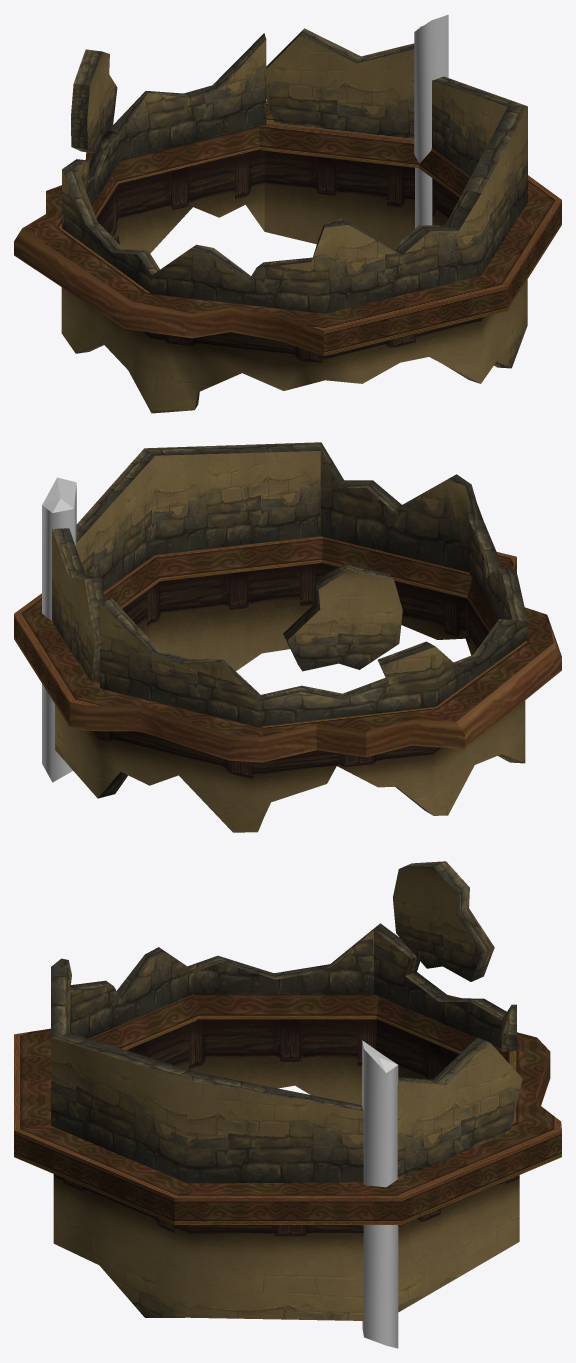
Rendered from environment_Building_tower_003_c.FBX.
The picture shows the model from 3 angles, top to bottom: view 1: azimuth 30°, elevation 25°; view 2: azimuth 150°, elevation 25°; view 3: azimuth 270°, elevation 25°; orthographic projection. The views are drawn at different scales.
Parts seen in each view (by area): view 1: environment_Building_tower_003_c4, environment_Building_tower_003_c3, environment_Building_tower_003_c6, environment_Building_tower_003_c1, environment_Building_tower_003_c5, environment_Building_tower_003_c2; view 2: environment_Building_tower_003_c4, environment_Building_tower_003_c3, environment_Building_tower_003_c6, environment_Building_tower_003_c2, environment_Building_tower_003_c1, environment_Building_tower_003_c5; view 3: environment_Building_tower_003_c3, environment_Building_tower_003_c4, environment_Building_tower_003_c6, environment_Building_tower_003_c1, environment_Building_tower_003_c5, environment_Building_tower_003_c2.
Boxes of the visible parts, bbox=[...] form: environment_Building_tower_003_c4: bbox=[62, 33, 527, 313]; environment_Building_tower_003_c3: bbox=[61, 149, 527, 413]; environment_Building_tower_003_c6: bbox=[14, 101, 561, 355]; environment_Building_tower_003_c1: bbox=[266, 28, 414, 138]; environment_Building_tower_003_c5: bbox=[414, 14, 448, 228]; environment_Building_tower_003_c2: bbox=[71, 49, 117, 153]; environment_Building_tower_003_c4: bbox=[76, 442, 527, 726]; environment_Building_tower_003_c3: bbox=[55, 563, 525, 832]; environment_Building_tower_003_c6: bbox=[14, 536, 561, 762]; environment_Building_tower_003_c2: bbox=[283, 563, 402, 671]; environment_Building_tower_003_c1: bbox=[52, 528, 104, 682]; environment_Building_tower_003_c5: bbox=[42, 477, 76, 782]; environment_Building_tower_003_c3: bbox=[53, 1019, 519, 1320]; environment_Building_tower_003_c4: bbox=[51, 923, 516, 1183]; environment_Building_tower_003_c6: bbox=[14, 973, 561, 1224]; environment_Building_tower_003_c1: bbox=[397, 1037, 522, 1179]; environment_Building_tower_003_c5: bbox=[362, 1040, 398, 1348]; environment_Building_tower_003_c2: bbox=[393, 861, 494, 981].
Size of the model in its own units: 1257 by 818 by 1257.
